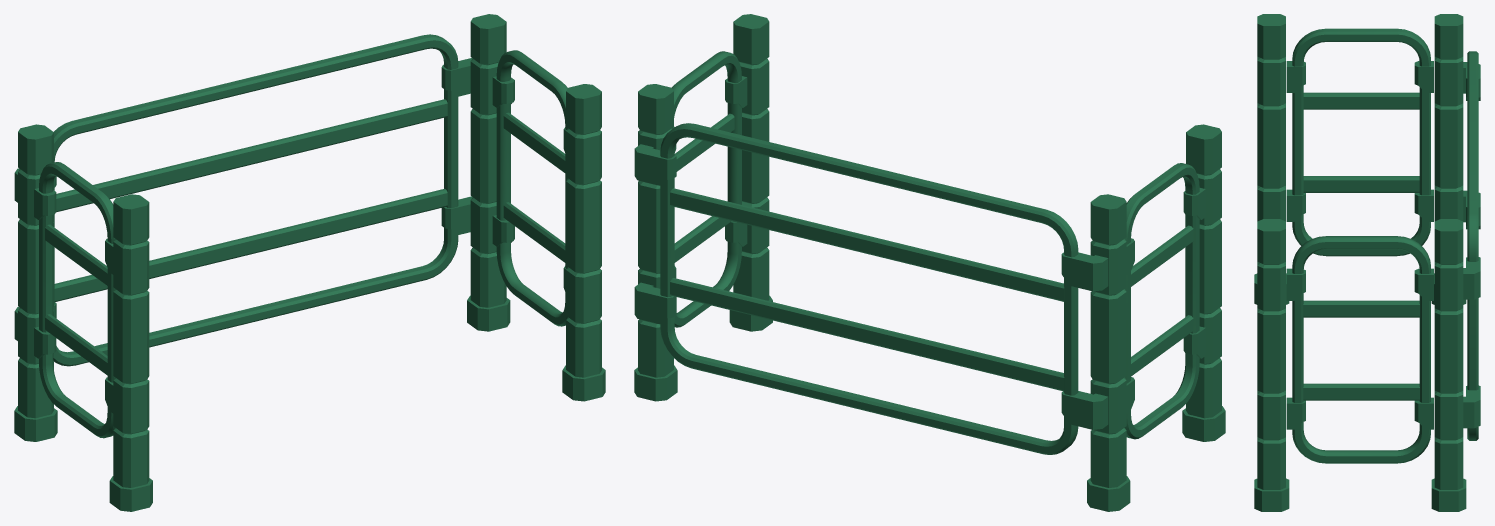
Rendered from UTypeStair_Rama_Top.FBX.
3 renders of one model, left to right at view 1: azimuth 30°, elevation 25°; view 2: azimuth 150°, elevation 25°; view 3: azimuth 270°, elevation 25°, orthographic. The views are drawn at different scales.
Visible parts, largest first — view 1: UTypeStair_Rama_Top; view 2: UTypeStair_Rama_Top; view 3: UTypeStair_Rama_Top.
Boxes of the visible parts, box(x1,y1,x2,y2) form: UTypeStair_Rama_Top: box(14, 14, 605, 511); UTypeStair_Rama_Top: box(634, 14, 1225, 511); UTypeStair_Rama_Top: box(1254, 14, 1480, 511).
Size of the model in its own units: 456 by 270 by 198.
